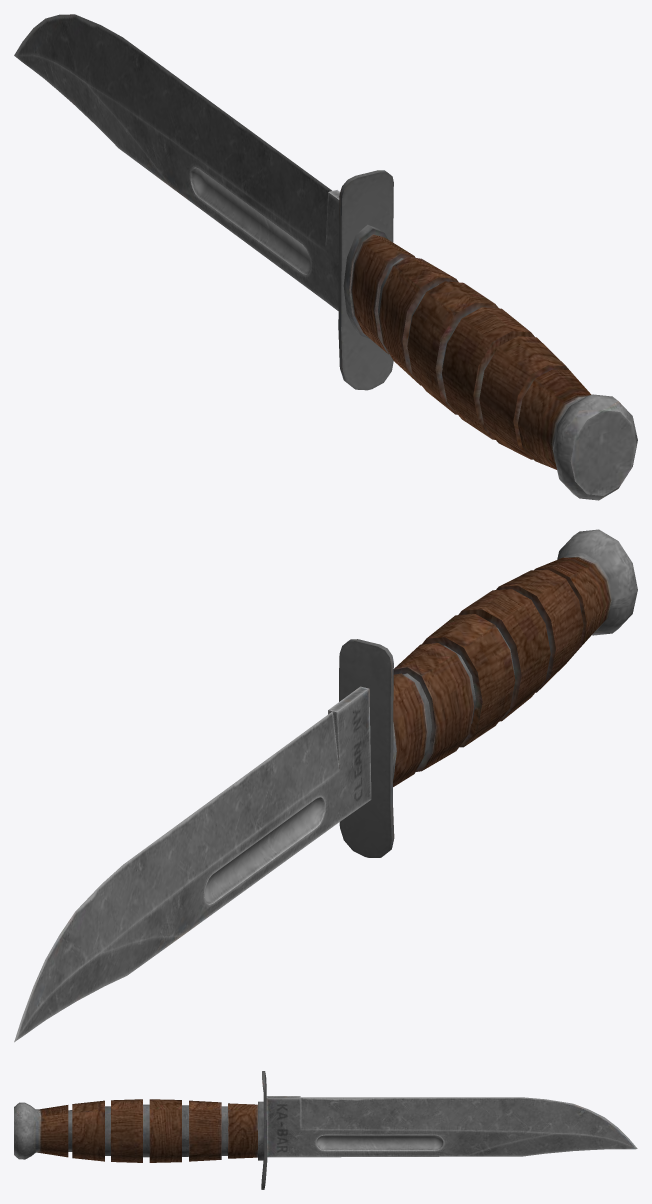
File: kabar.glb
3 renders of one model, top to bottom at view 1: azimuth 30°, elevation 25°; view 2: azimuth 150°, elevation 25°; view 3: azimuth 270°, elevation 25°, orthographic. The views are drawn at different scales.
Visible parts, largest first — view 1: Blade_KaBar_0; view 2: Blade_KaBar_0; view 3: Blade_KaBar_0.
Boxes of the visible parts, x1,y1,x2,y2 form: Blade_KaBar_0: (14, 14, 637, 500); Blade_KaBar_0: (14, 529, 637, 1042); Blade_KaBar_0: (14, 1071, 637, 1189).
Size of the model in its own units: 0.0235 by 0.0601 by 0.3.
1 material, 1 textured.
